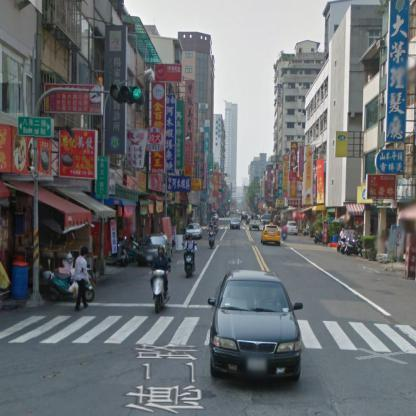Green Light: (110, 85, 144, 103)
